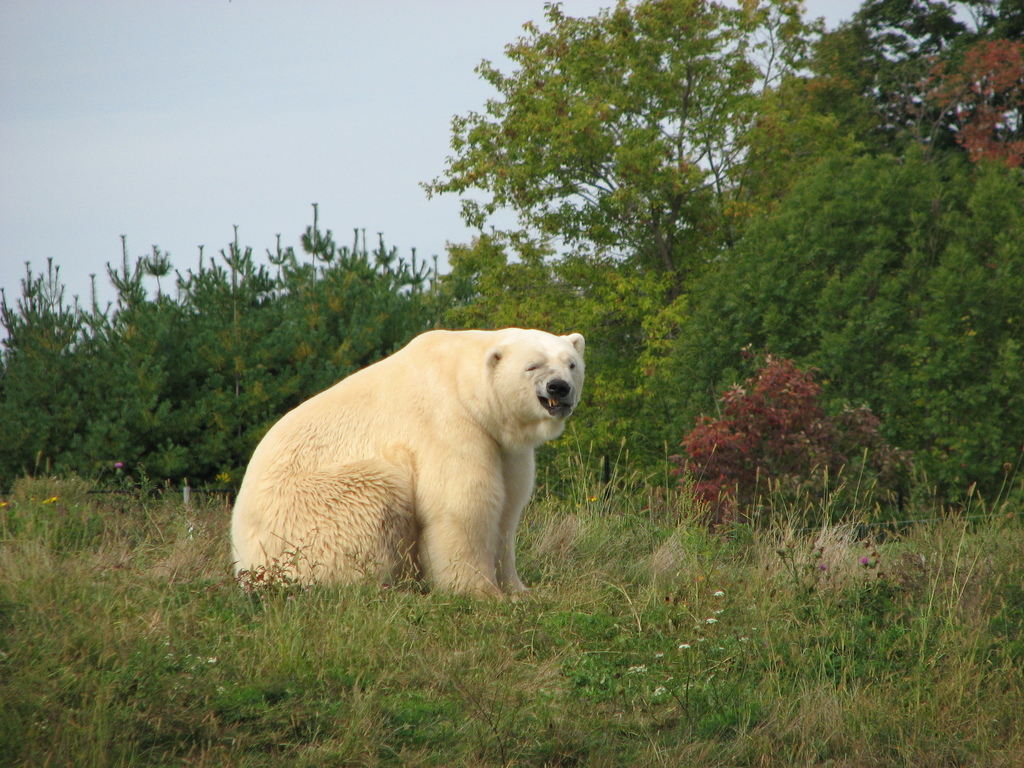Tree: (0, 0, 1024, 539)
